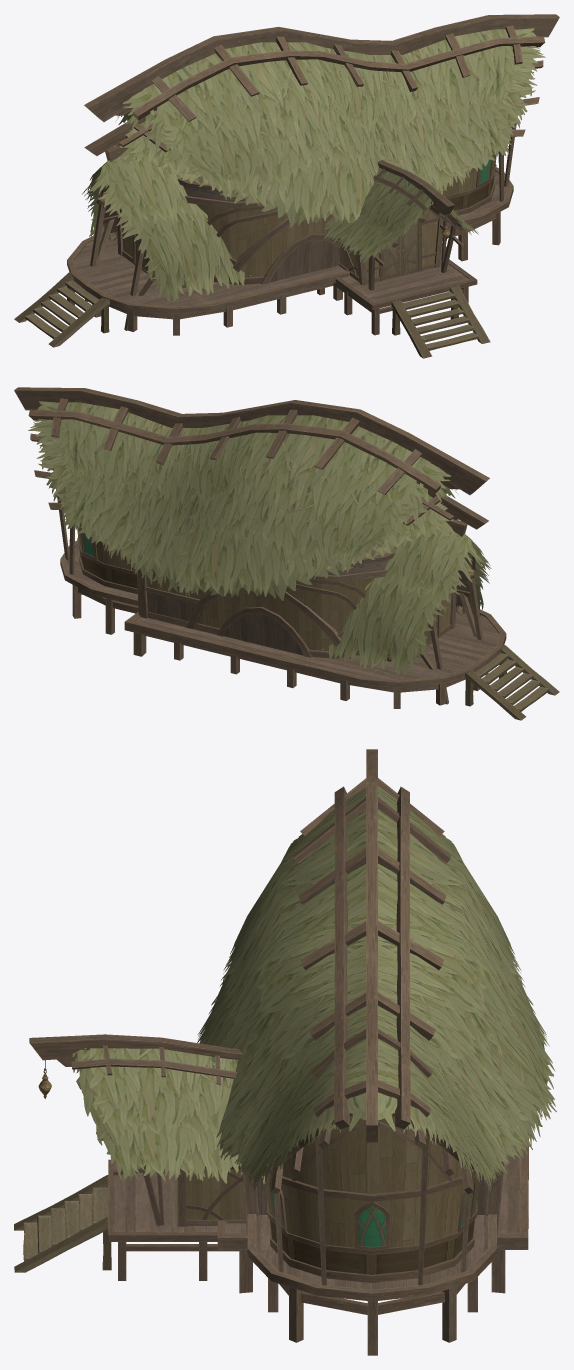
The model's file is Homeworld_Exterior_Xm_Build_Lowhouse_03_Lod0.fbx.
The picture shows the model from 3 angles, top to bottom: view 1: azimuth 30°, elevation 25°; view 2: azimuth 150°, elevation 25°; view 3: azimuth 270°, elevation 25°; orthographic projection. The views are drawn at different scales.
Visible parts, largest first — view 1: Area_Xm_Build_XKC_Comp_Lowhouse_A_02_Lod0, Area_Xm_Build_XKC_Comp_Lowhouse_A_01_Lod0, Area_Xm_Build_XKC_Comp_Lowhouse_01_Lod0, Area_Xm_Build_XKC_Comp_Lowhouse_02_Lod0, Area_Xm_Stairs_Common_Lowhouse_A_Lod0 (×2); view 2: Area_Xm_Build_XKC_Comp_Lowhouse_A_02_Lod0, Area_Xm_Build_XKC_Comp_Lowhouse_A_01_Lod0, Area_Xm_Build_XKC_Comp_Lowhouse_02_Lod0, Area_Xm_Stairs_Common_Lowhouse_A_Lod0; view 3: Area_Xm_Build_XKC_Comp_Lowhouse_A_02_Lod0, Area_Xm_Build_XKC_Comp_Lowhouse_A_01_Lod0, Area_Xm_Build_XKC_Comp_Lowhouse_01_Lod0, Area_Xm_Stairs_Common_Lowhouse_A_Lod0.
Part boxes in pixels (<box>): Area_Xm_Build_XKC_Comp_Lowhouse_A_02_Lod0: <box>116,28,545,227</box>; Area_Xm_Build_XKC_Comp_Lowhouse_A_01_Lod0: <box>67,14,559,335</box>; Area_Xm_Build_XKC_Comp_Lowhouse_01_Lod0: <box>317,160,478,335</box>; Area_Xm_Build_XKC_Comp_Lowhouse_02_Lod0: <box>82,146,251,330</box>; Area_Xm_Stairs_Common_Lowhouse_A_Lod0 (×2): <box>14,272,490,358</box>; Area_Xm_Build_XKC_Comp_Lowhouse_A_02_Lod0: <box>28,401,457,600</box>; Area_Xm_Build_XKC_Comp_Lowhouse_A_01_Lod0: <box>14,387,506,708</box>; Area_Xm_Build_XKC_Comp_Lowhouse_02_Lod0: <box>322,519,491,704</box>; Area_Xm_Stairs_Common_Lowhouse_A_Lod0: <box>464,644,559,720</box>; Area_Xm_Build_XKC_Comp_Lowhouse_A_02_Lod0: <box>197,786,556,1191</box>; Area_Xm_Build_XKC_Comp_Lowhouse_A_01_Lod0: <box>217,749,528,1355</box>; Area_Xm_Build_XKC_Comp_Lowhouse_01_Lod0: <box>29,1034,265,1280</box>; Area_Xm_Stairs_Common_Lowhouse_A_Lod0: <box>14,1175,111,1272</box>.
Size of what is drawn, in the model's own units: 23.41 by 10.86 by 14.29.
